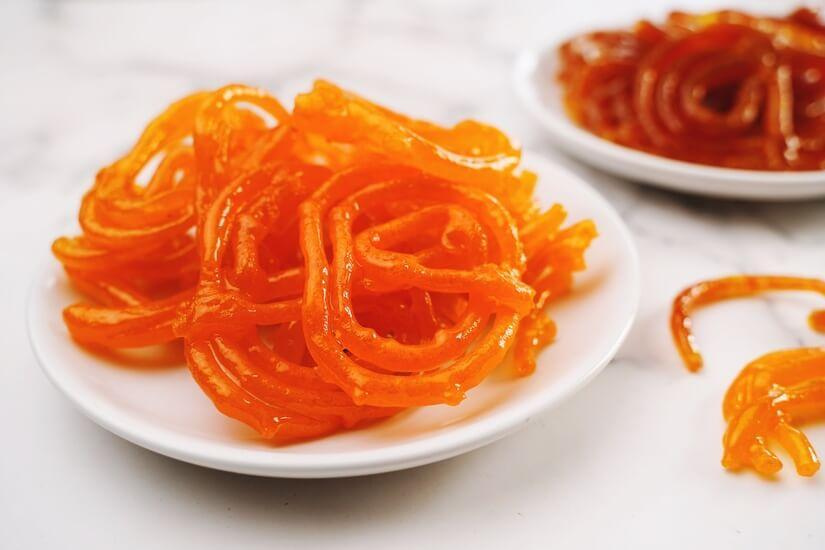jalebi: (49, 84, 550, 427), (571, 2, 816, 172)
